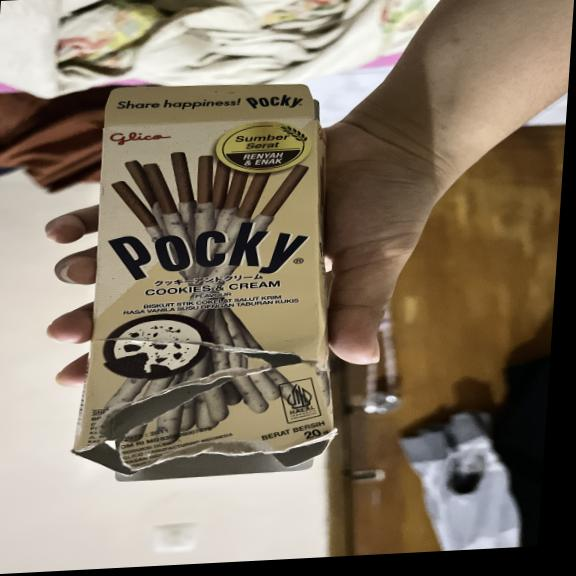Kertas: (76, 120, 332, 452)
